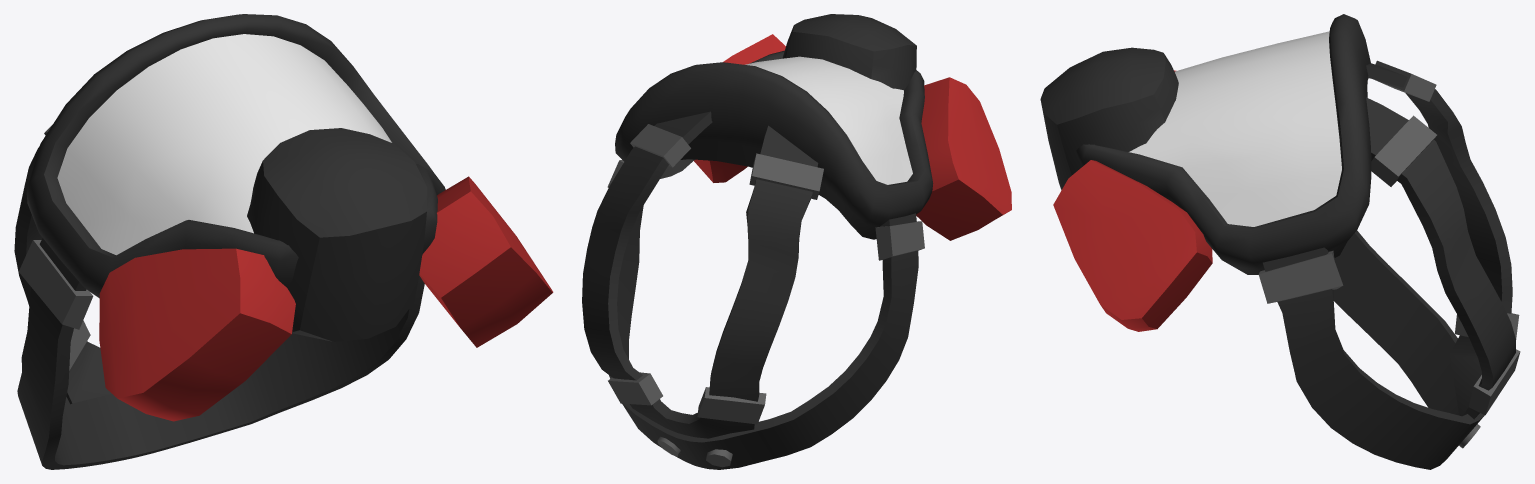
The model's file is 9防护面具2.fbx.
3 views of the same model, side by side, from view 1: azimuth 30°, elevation 25°; view 2: azimuth 150°, elevation 25°; view 3: azimuth 270°, elevation 25° (orthographic). The views are drawn at different scales.
Visible parts, largest first — view 1: 9防护面具2, HazmatMaskTop.001; view 2: 9防护面具2, HazmatMaskTop.001; view 3: 9防护面具2, HazmatMaskTop.001.
Boxes of the visible parts, x1,y1,x2,y2 form: 9防护面具2: [14, 14, 553, 469]; HazmatMaskTop.001: [57, 34, 391, 255]; 9防护面具2: [582, 14, 1011, 469]; HazmatMaskTop.001: [745, 56, 912, 184]; 9防护面具2: [1040, 14, 1520, 469]; HazmatMaskTop.001: [1129, 31, 1341, 226].
Bounding box in the file's own units: 0.4387 × 0.4662 × 0.4902.
